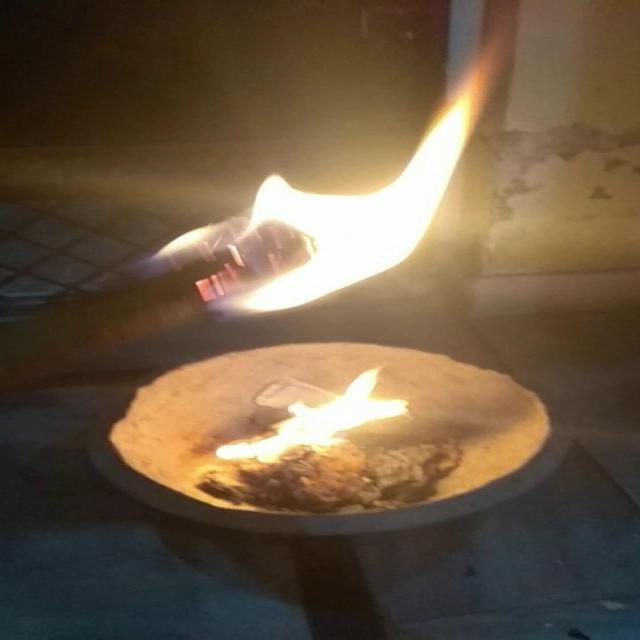fire: (162, 38, 514, 326), (224, 367, 418, 463)
